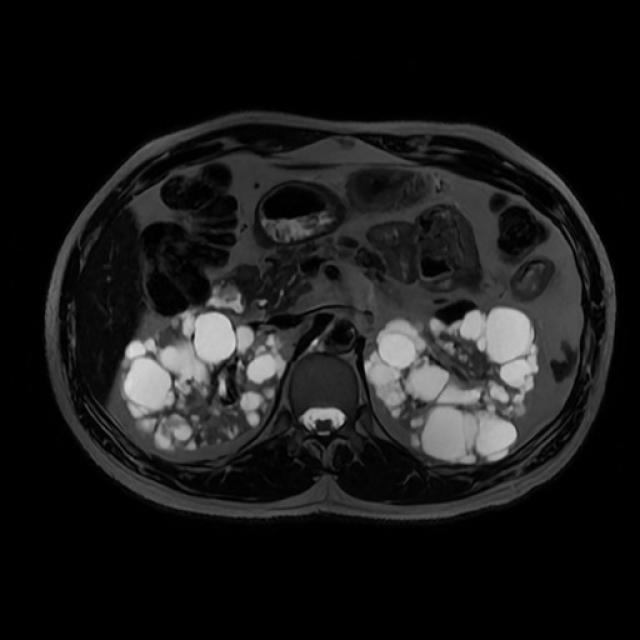sag: (121, 306, 285, 448)
sol: (369, 305, 539, 461)
